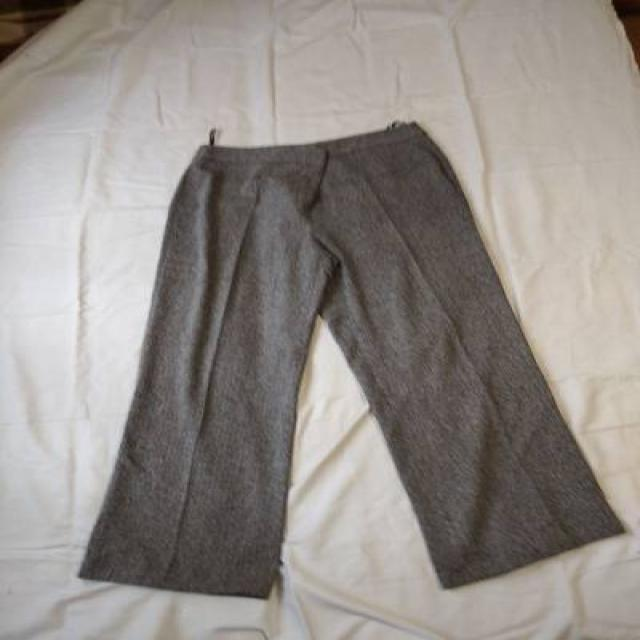Clothes -Biodegradable-: (77, 124, 628, 601)
